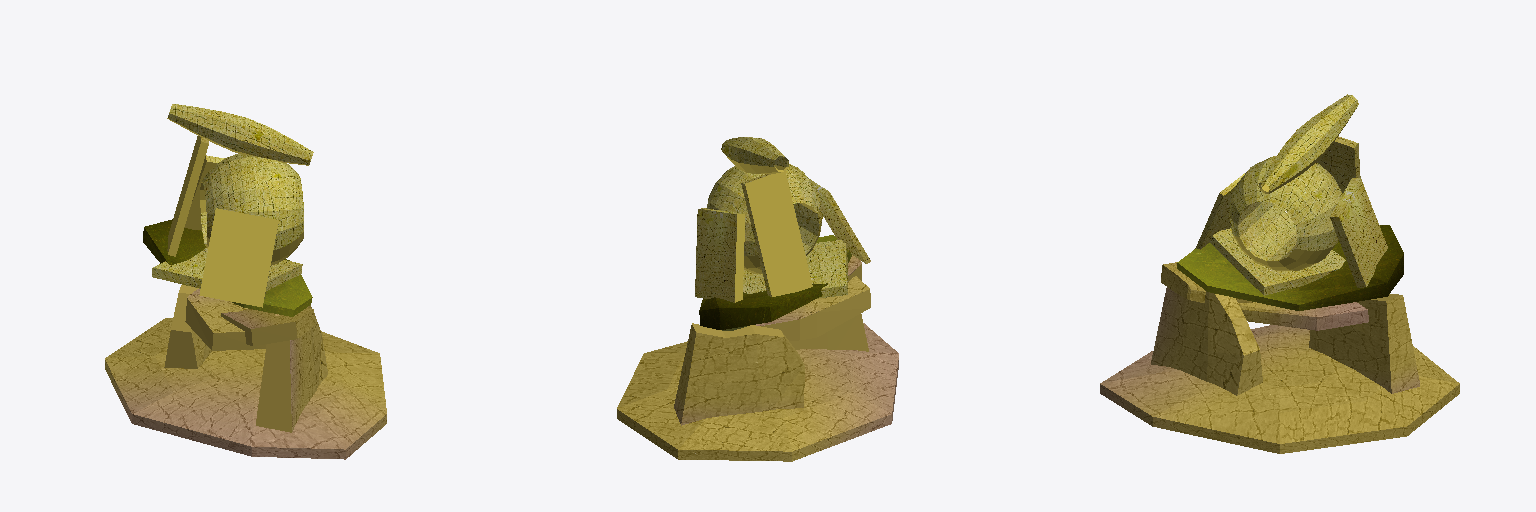
3 renders of one model, left to right at view 1: azimuth 30°, elevation 25°; view 2: azimuth 150°, elevation 25°; view 3: azimuth 270°, elevation 25°, orthographic.
Visible parts, largest first — view 1: env_dwelling env_dwelling_base, env_dwelling env_dwelling_top, env_dwelling_green env_dwelling; view 2: env_dwelling env_dwelling_base, env_dwelling env_dwelling_top, env_dwelling_green env_dwelling; view 3: env_dwelling env_dwelling_base, env_dwelling env_dwelling_top, env_dwelling_green env_dwelling.
Boxes of the visible parts, <box> form: env_dwelling env_dwelling_base: <box>105,285,386,459</box>; env_dwelling env_dwelling_top: <box>152,104,313,307</box>; env_dwelling_green env_dwelling: <box>143,219,312,316</box>; env_dwelling env_dwelling_base: <box>617,255,898,461</box>; env_dwelling env_dwelling_top: <box>695,137,870,302</box>; env_dwelling_green env_dwelling: <box>699,235,851,330</box>; env_dwelling env_dwelling_base: <box>1100,262,1459,453</box>; env_dwelling env_dwelling_top: <box>1195,94,1387,295</box>; env_dwelling_green env_dwelling: <box>1177,225,1403,310</box>.
Bounding box in the file's own units: 260 × 275 × 326.
Materials: 3 (3 with a texture image).